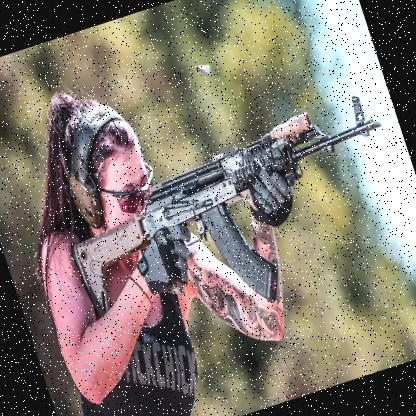rifle: (41, 88, 416, 363)
